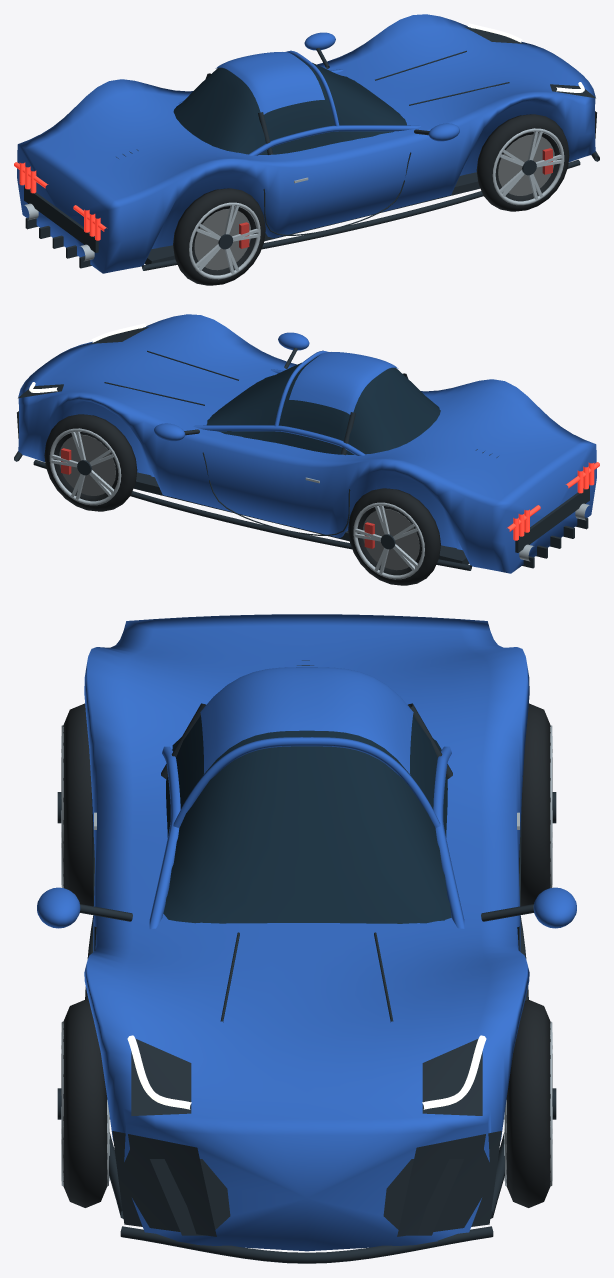
File: car13.glb
3 renders of one model, top to bottom at view 1: azimuth 30°, elevation 25°; view 2: azimuth 150°, elevation 25°; view 3: azimuth 270°, elevation 25°, orthographic. The views are drawn at different scales.
Parts seen in each view (by area): view 1: continuous-sculpted-body, CAR13, curved-windows, roof-panel; view 2: continuous-sculpted-body, CAR13, curved-windows, roof-panel; view 3: continuous-sculpted-body, CAR13, curved-windows, roof-panel.
Boxes of the visible parts, x1,y1,x2,y2 form: continuous-sculpted-body: [17, 14, 595, 273]; CAR13: [14, 23, 599, 285]; curved-windows: [173, 55, 406, 154]; roof-panel: [215, 52, 324, 114]; continuous-sculpted-body: [18, 314, 596, 573]; CAR13: [14, 323, 599, 585]; curved-windows: [206, 355, 440, 454]; roof-panel: [289, 352, 398, 414]; continuous-sculpted-body: [84, 614, 529, 1251]; CAR13: [37, 660, 576, 1263]; curved-windows: [163, 715, 451, 923]; roof-panel: [200, 667, 413, 774].
Size of the model in its own units: 4.94 by 1.42 by 2.22.
